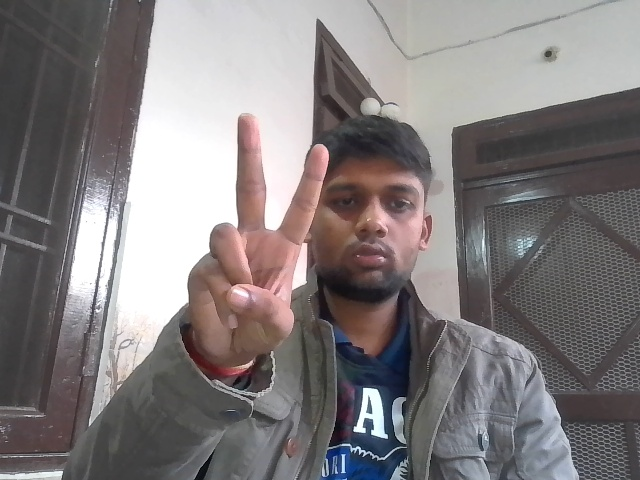Enjoy: (184, 100, 332, 364)
